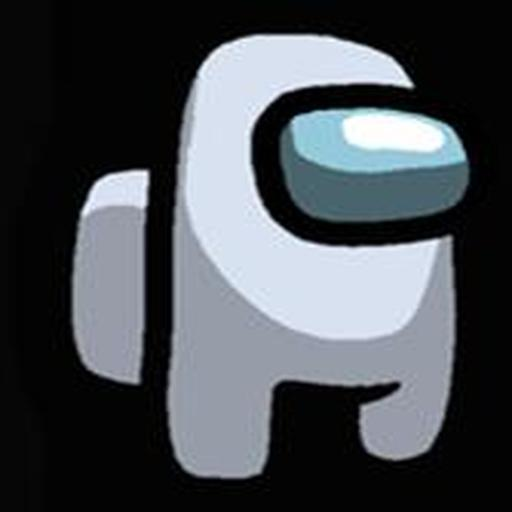Crewmate: (61, 23, 483, 480)
